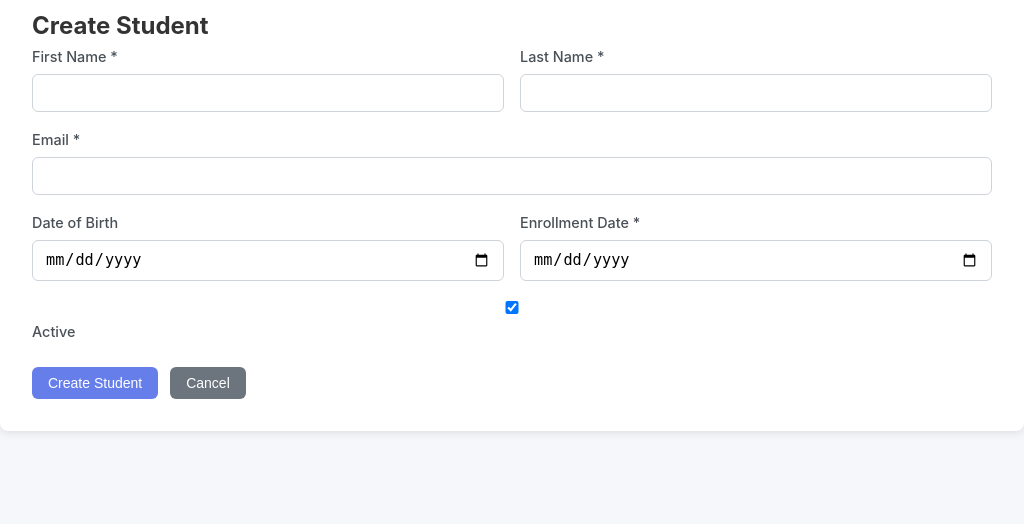
Test: StudentForm › shows validation errors on empty submit
Click the button "Create Student" at point(95, 383), box [32,367,158,399]
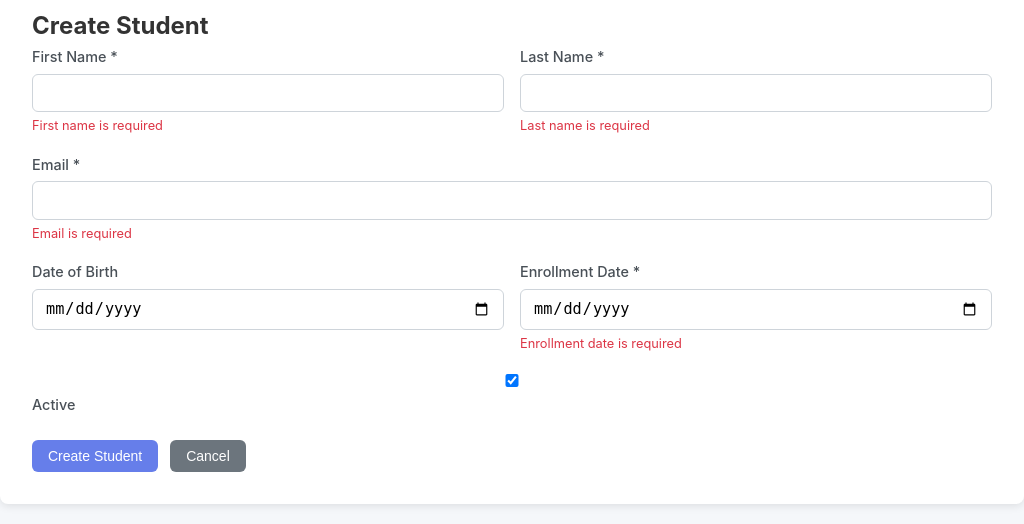
Now the text "First name is required" is shown, box [32,118,163,133]
Now the text "Last name is required" is shown, box [520,118,650,133]
Now the text "Email is required" is shown, box [32,226,132,240]
